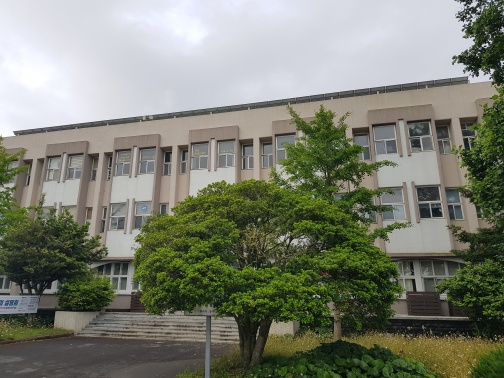Main Building of University: (9, 79, 483, 252)
